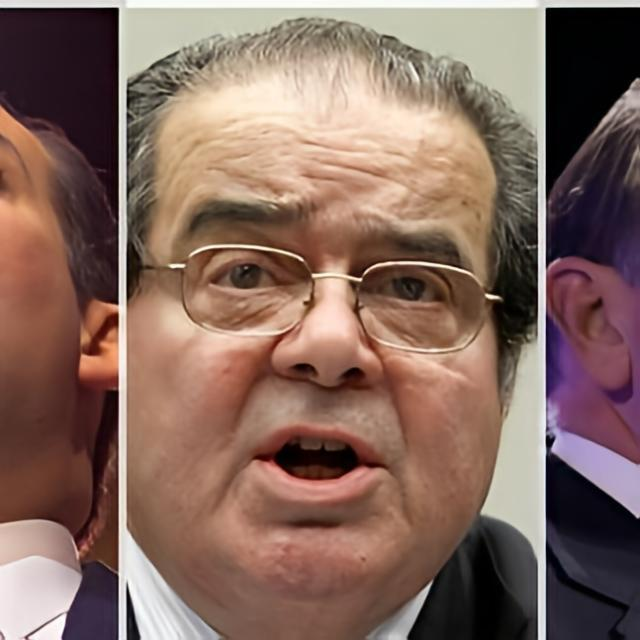anger: (129, 74, 507, 616)
